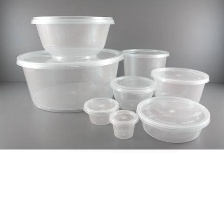plastic_box: (11, 43, 129, 117), (26, 9, 118, 64), (132, 91, 213, 147), (145, 63, 213, 106), (107, 72, 159, 114), (118, 45, 172, 84), (79, 93, 123, 128), (106, 105, 141, 142)
